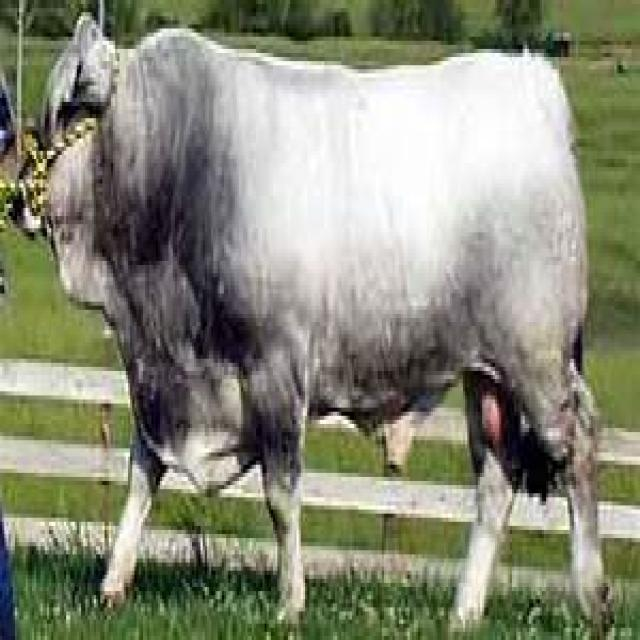cow: (21, 14, 605, 626), (16, 191, 20, 216)
